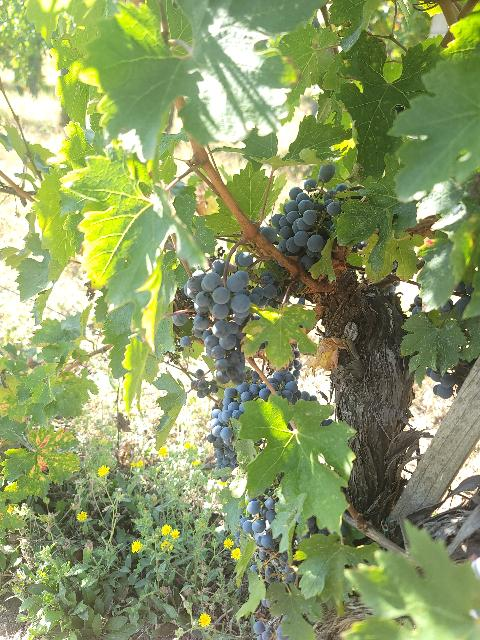grapes: (209, 360, 316, 442), (271, 164, 349, 271), (186, 271, 250, 379)
